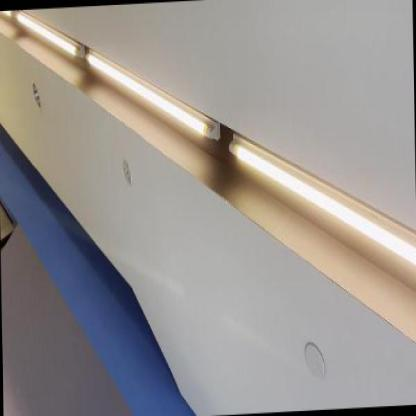light_on: (224, 117, 415, 300), (83, 41, 197, 143), (3, 7, 81, 76)
